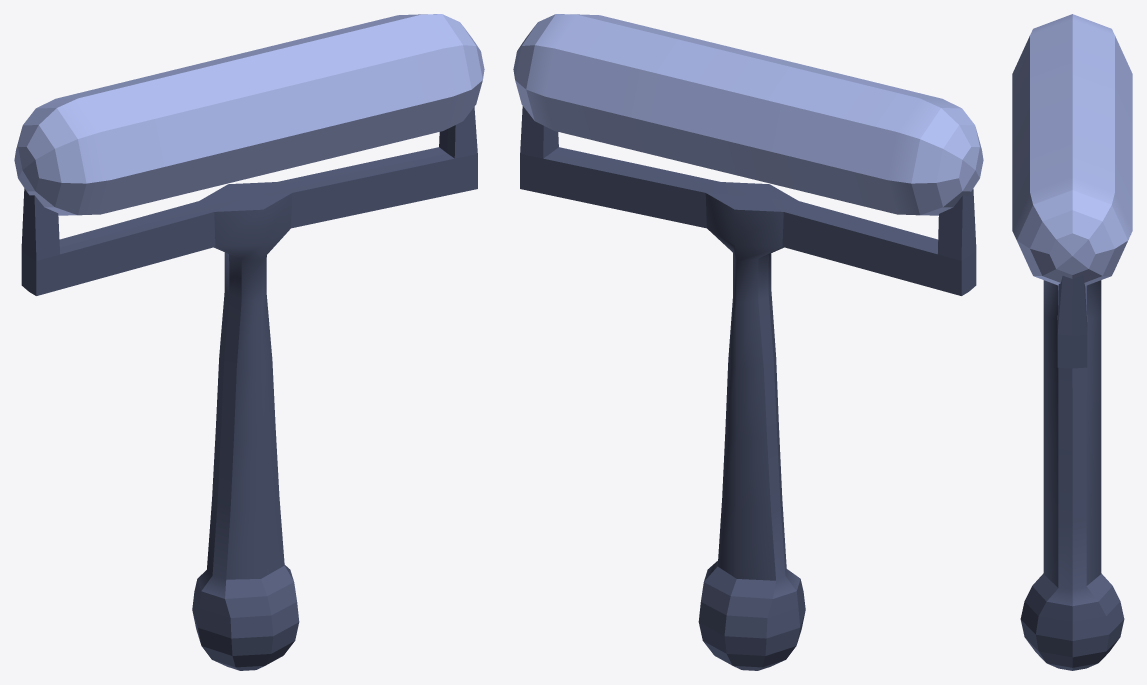
File: Rodillo.fbx
The picture shows the model from 3 angles, left to right: view 1: azimuth 30°, elevation 25°; view 2: azimuth 150°, elevation 25°; view 3: azimuth 270°, elevation 25°; orthographic projection. The views are drawn at different scales.
Visible parts, largest first — view 1: RodilloArriba, RodilloBase; view 2: RodilloArriba, RodilloBase; view 3: RodilloArriba, RodilloBase.
Part boxes in pixels (<box>): RodilloArriba: <box>14,14,484,215</box>; RodilloBase: <box>21,107,477,670</box>; RodilloArriba: <box>513,14,983,215</box>; RodilloBase: <box>520,106,976,670</box>; RodilloArriba: <box>1012,14,1132,285</box>; RodilloBase: <box>1020,275,1124,670</box>.
Bounding box in the file's own units: 0.3192 × 0.4089 × 0.0783.
